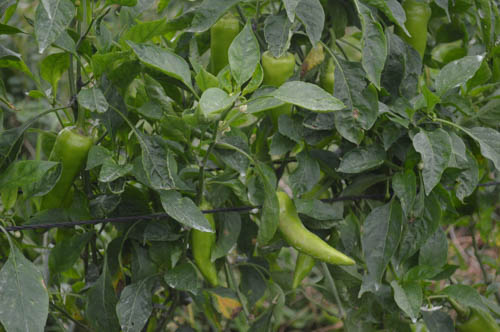ChiliPepper: (266, 191, 354, 267), (42, 131, 89, 209), (260, 55, 298, 131), (398, 5, 429, 74), (191, 210, 220, 281), (211, 18, 237, 72)
